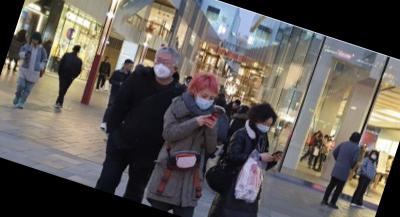with_mask: (150, 54, 178, 82), (192, 88, 217, 113), (255, 118, 273, 135), (369, 151, 379, 159), (104, 57, 109, 61)
without_mask: (30, 36, 40, 45), (125, 62, 134, 71), (231, 102, 240, 111)
